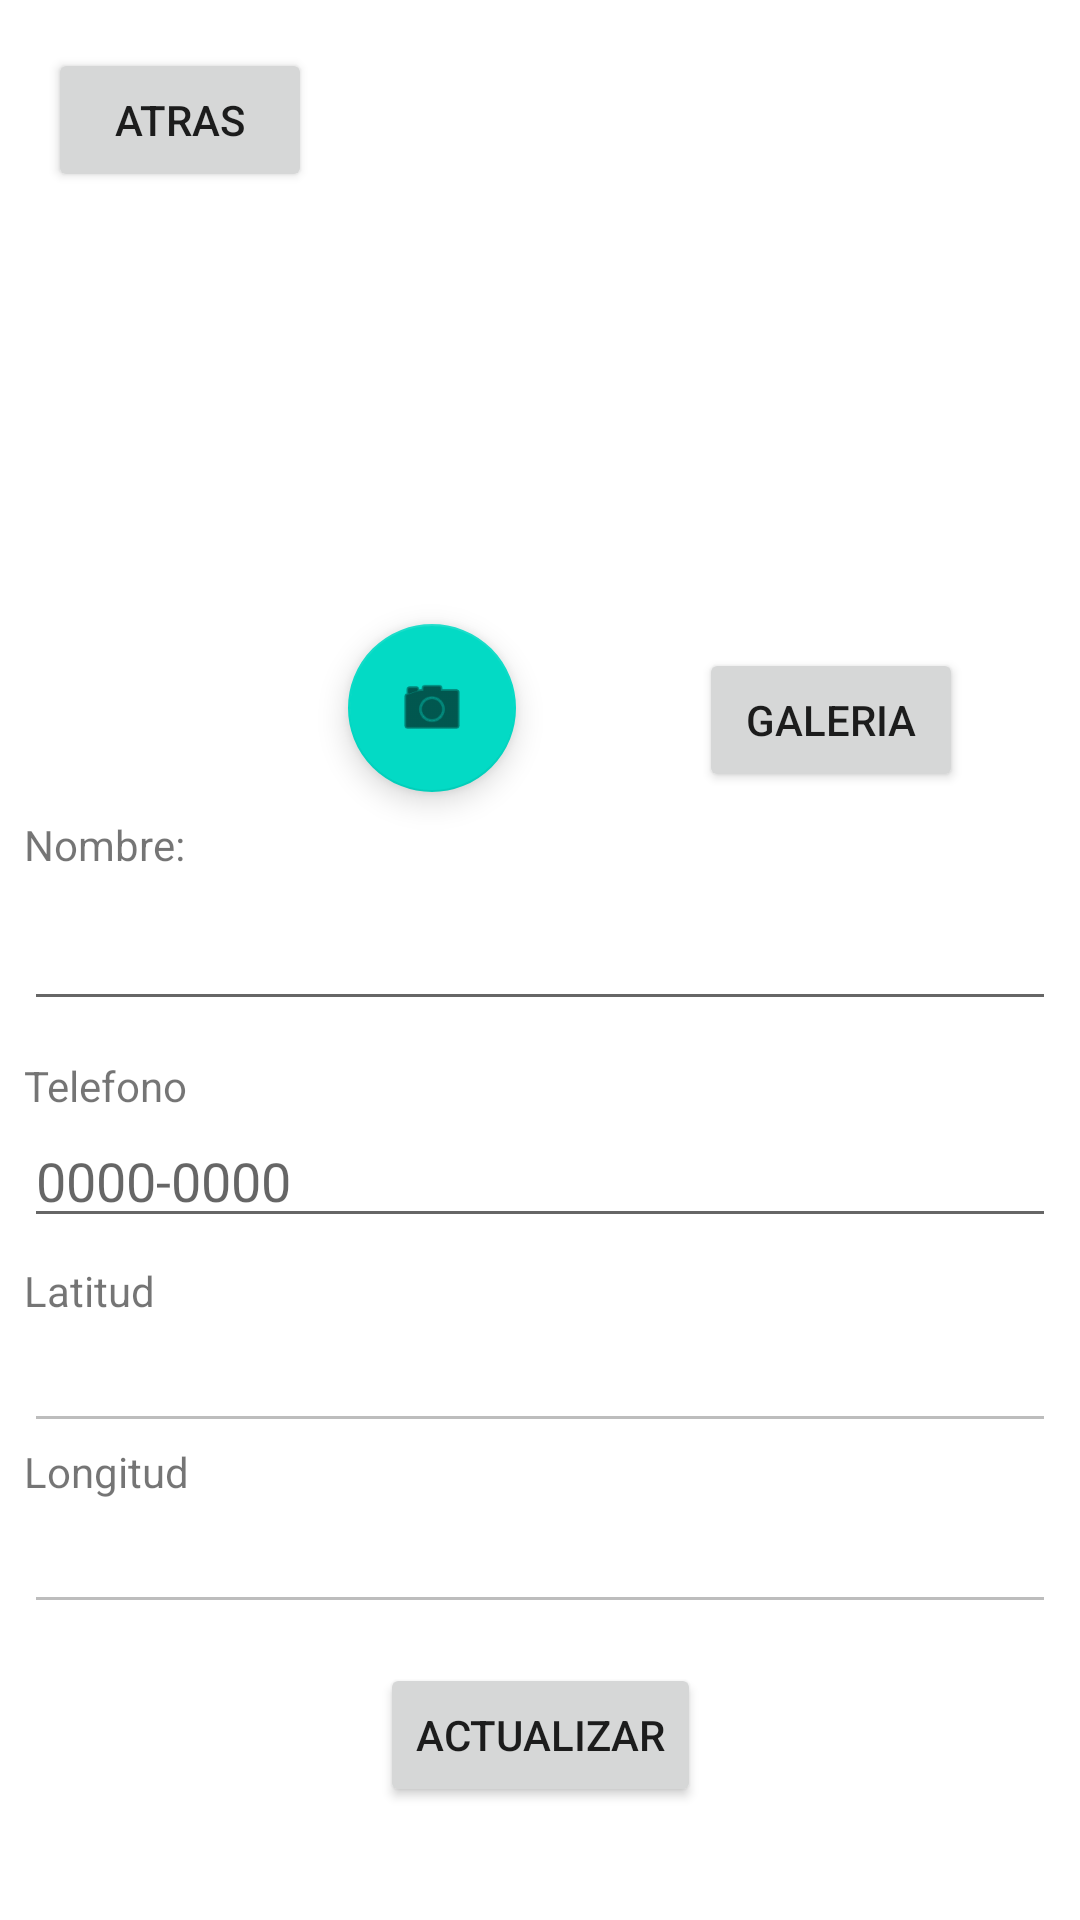

Where icons sit on this 1080px×1920px app screen, as (x1, y1, x2, y2):
camera: (348, 624, 516, 792)
